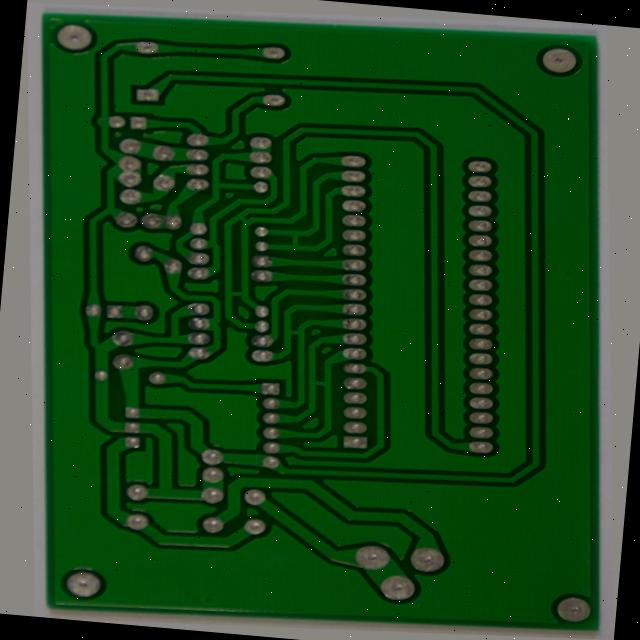short: (287, 220, 319, 249), (273, 316, 306, 344), (211, 273, 246, 299), (295, 371, 329, 397), (233, 201, 260, 221)
